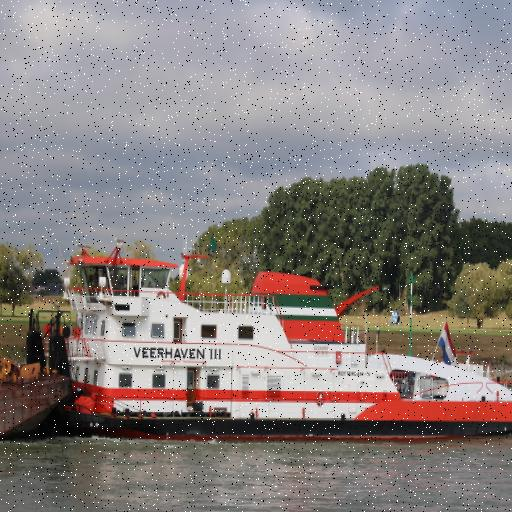tugboat: (25, 230, 512, 451)
